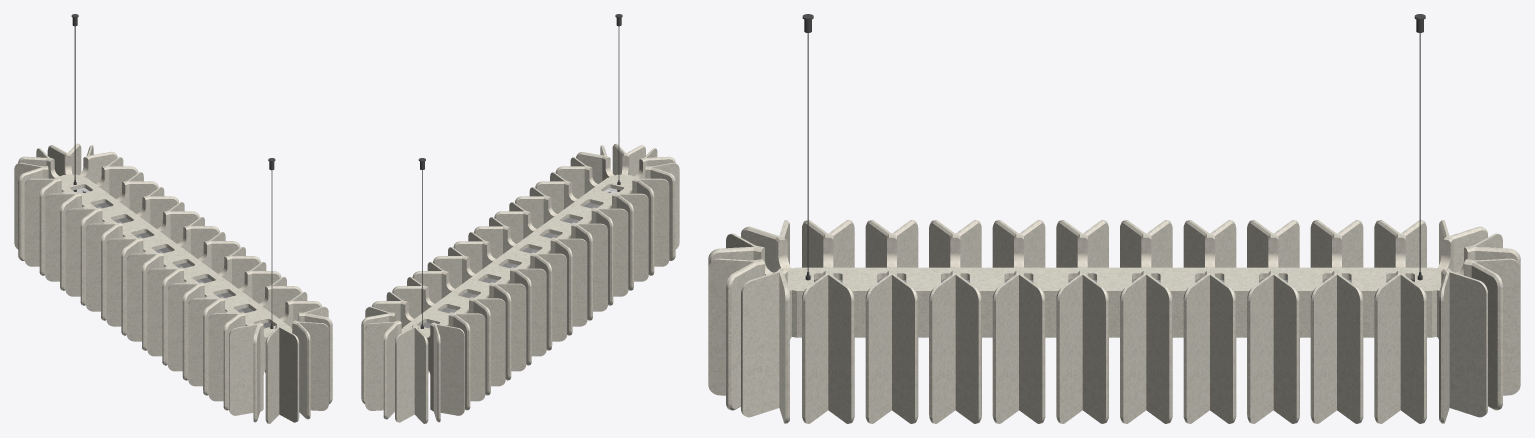
File: hoya_light_4.glb
The picture shows the model from 3 angles, left to right: view 1: azimuth 30°, elevation 25°; view 2: azimuth 150°, elevation 25°; view 3: azimuth 270°, elevation 25°; orthographic projection. The views are drawn at different scales.
Parts seen in each view (by area): view 1: <auto> (×40), Material (×15), Default 150:150:150, 70-40-9751-01EXT1_LIN8_EXTRUSION_1120.0mm_color_255_255_255_, 70-35-9751-01D3_CLEAR_ACRYLIC_TOP_PANEL_1060.0mm_color_128_2, Material3_1_0, Material3_0_0; view 2: <auto> (×41), Material (×15), Default 150:150:150, 70-35-9751-01D3_CLEAR_ACRYLIC_TOP_PANEL_1060.0mm_color_128_2, 70-40-9751-01EXT1_LIN8_EXTRUSION_1120.0mm_color_255_255_255_, Material3_0_0; view 3: <auto> (×48), Default 150:150:150, Material (×5).
Part boxes in pixels (x1,y1,x2,y2): <auto> (×40): [14, 147, 328, 423]; Material (×15): [18, 167, 332, 422]; Default 150:150:150: [61, 178, 290, 333]; 70-40-9751-01EXT1_LIN8_EXTRUSION_1120.0mm_color_255_255_255_: [85, 192, 270, 328]; 70-35-9751-01D3_CLEAR_ACRYLIC_TOP_PANEL_1060.0mm_color_128_2: [94, 203, 270, 328]; Material3_1_0: [71, 14, 78, 191]; Material3_0_0: [268, 158, 275, 323]; <auto> (×41): [364, 147, 679, 423]; Material (×15): [361, 167, 675, 422]; Default 150:150:150: [403, 178, 632, 333]; 70-35-9751-01D3_CLEAR_ACRYLIC_TOP_PANEL_1060.0mm_color_128_2: [421, 189, 618, 328]; 70-40-9751-01EXT1_LIN8_EXTRUSION_1120.0mm_color_255_255_255_: [421, 192, 608, 328]; Material3_0_0: [615, 14, 622, 191]; <auto> (×48): [708, 223, 1520, 423]; Default 150:150:150: [797, 267, 1431, 337]; Material (×5): [726, 260, 1502, 423].
Size of what is drawn, in the model's own units: 0.3203 by 0.7432 by 1.47.
505 materials, 116 textured.
